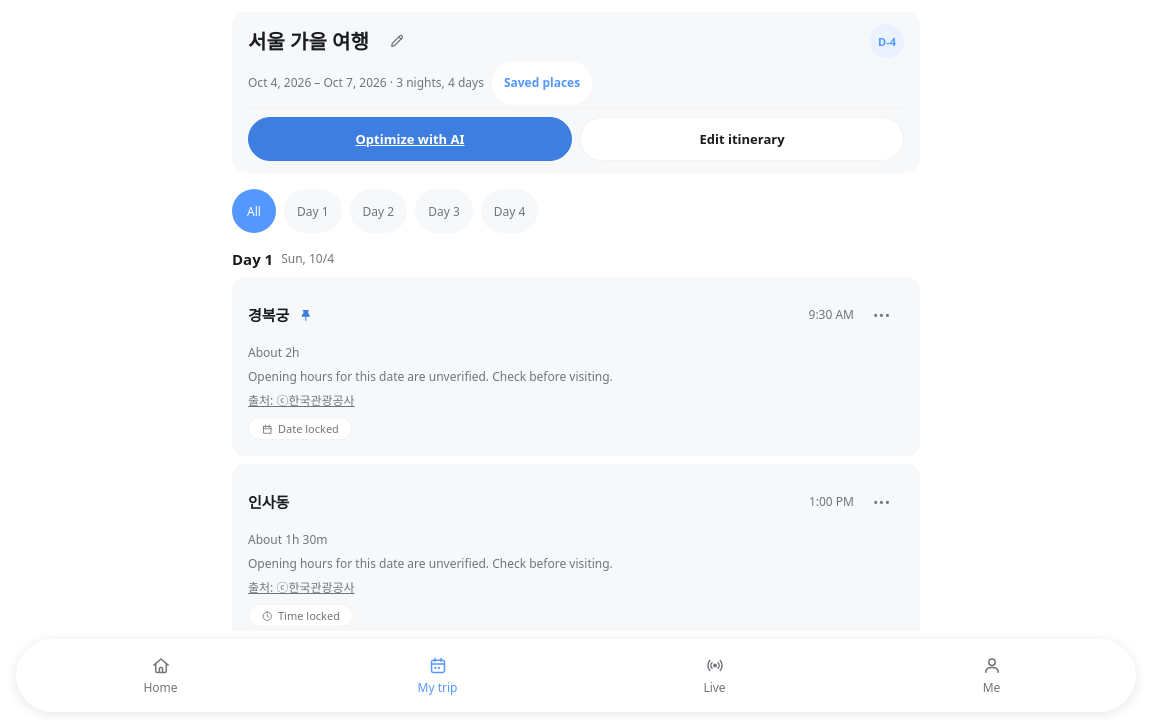
Test: FE-304-T1 releasing one lock leaves the others alone › asks before releasing MUST_VISIT, and says what carries over
This screenshot has width=1152, height=720.
Expected: the heading "경복궁" is shown, x1=248 y1=305 x2=289 y2=325
Click the button "•••" next to "9:30 AM" at (882, 315), box x1=860 y1=293 x2=904 y2=337
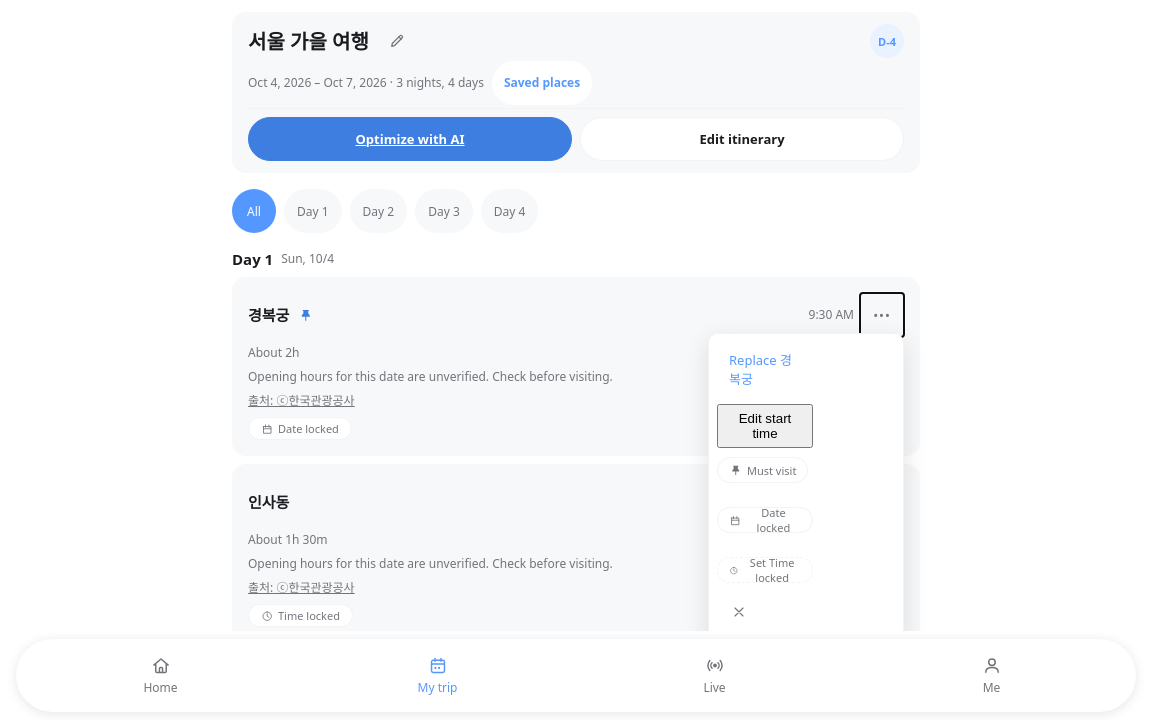
Click the button "Must visit" at (763, 470), box x1=717 y1=448 x2=808 y2=492
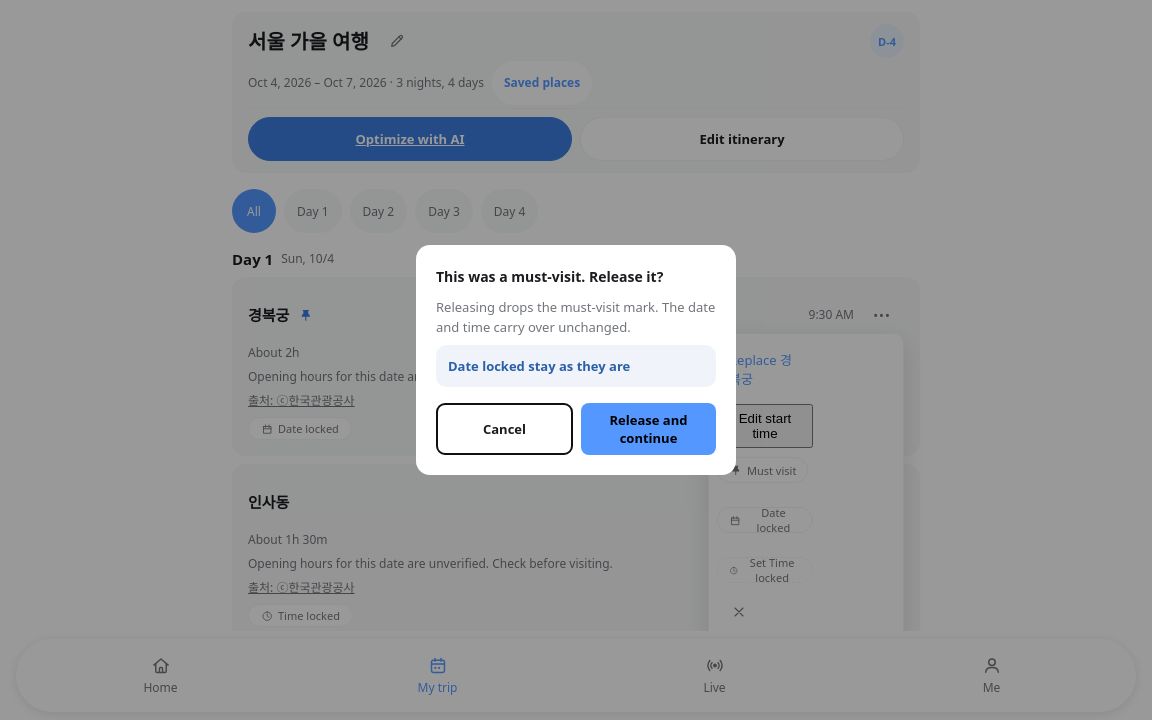
Now the dialog shows "Releasing drops the must-visit mark. The date and time carry over unchanged.", box x1=436 y1=298 x2=715 y2=336
Now the dialog shows "Date locked", box x1=448 y1=357 x2=630 y2=375
